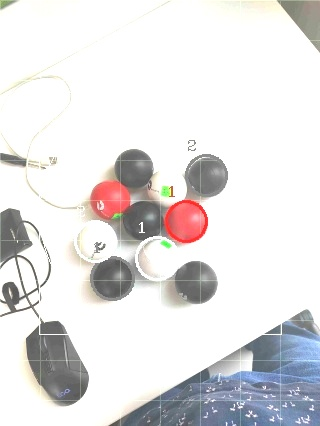Pelota blanca: (0, 73, 73, 160), (276, 0, 320, 54), (132, 233, 179, 280), (71, 220, 118, 264), (172, 260, 219, 304), (145, 166, 187, 200)
Pelota negra: (113, 334, 320, 425), (26, 324, 89, 408), (87, 254, 134, 302), (183, 153, 230, 198), (172, 260, 219, 304), (121, 198, 163, 240), (113, 148, 153, 190)
Pelota roja: (161, 198, 209, 246), (90, 177, 131, 219)
